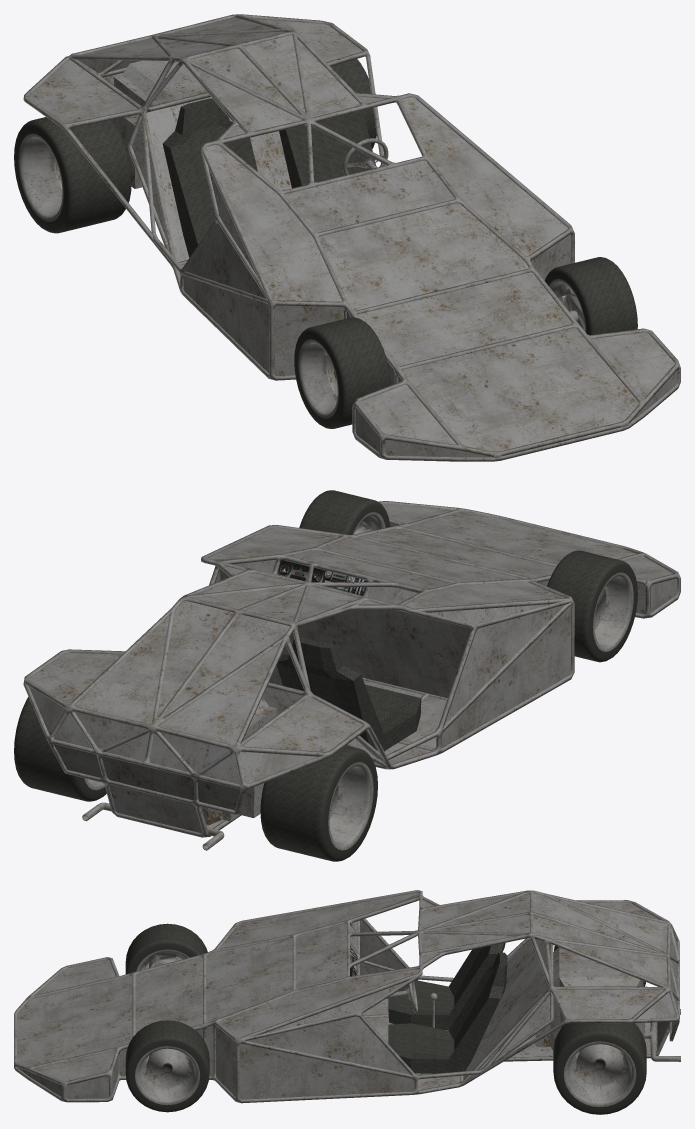
File: rampcar.fbx
3 views of the same model, one above another, from view 1: azimuth 30°, elevation 25°; view 2: azimuth 150°, elevation 25°; view 3: azimuth 270°, elevation 25° (orthographic). The views are drawn at different scales.
Parts seen in each view (by area): view 1: Body, Body_frame, WRR, WFR, WFL, WRL; view 2: Body, Body_frame, WRR, WFR, WRL, WFL; view 3: Body, Body_frame, WRL, WFL, WFR.
Part boxes in pixels (x1,y1,x2,y2): Body: [28, 17, 677, 457]; Body_frame: [23, 14, 680, 461]; WRR: [14, 117, 131, 233]; WFR: [294, 317, 390, 428]; WFL: [544, 257, 637, 335]; WRL: [331, 59, 376, 148]; Body: [28, 504, 677, 850]; Body_frame: [23, 501, 680, 837]; WRR: [260, 745, 377, 861]; WFR: [547, 550, 637, 662]; WRL: [14, 697, 106, 801]; WFL: [299, 490, 390, 534]; Body: [17, 892, 680, 1099]; Body_frame: [14, 890, 679, 1103]; WRL: [553, 1023, 646, 1114]; WFL: [125, 1020, 209, 1112]; WFR: [125, 923, 207, 974].
Size of the model in its own units: 1.83 by 1.01 by 4.26.
